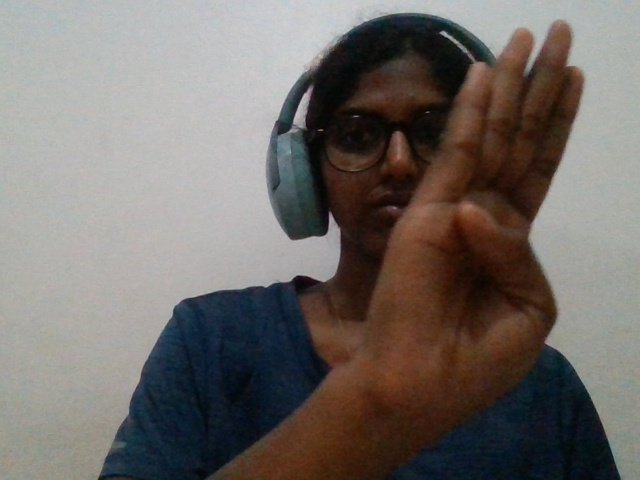B: (317, 16, 593, 443)
